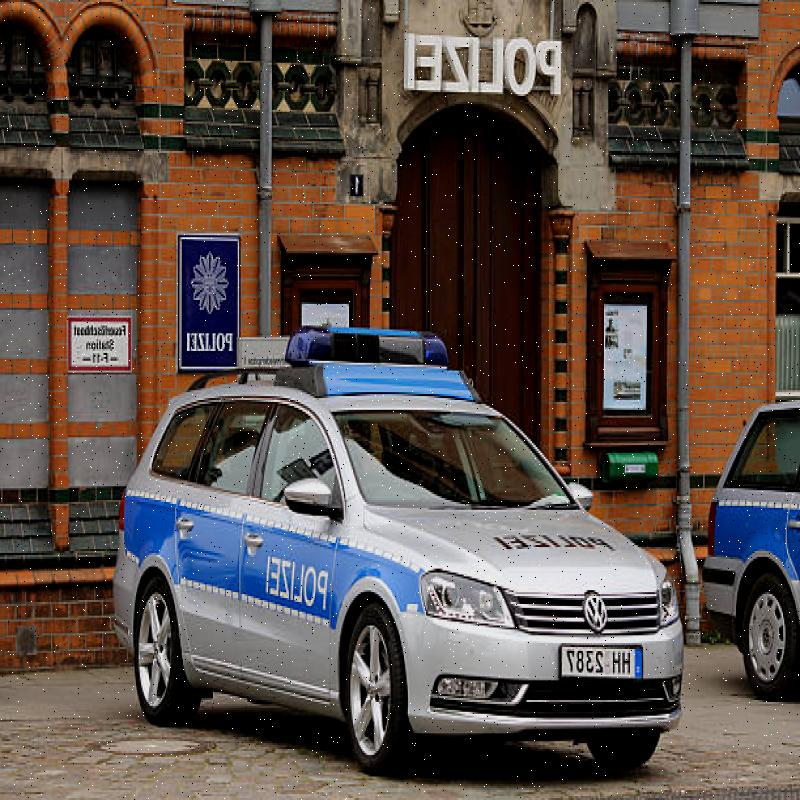AmbulanceSiren: (283, 308, 454, 386)
